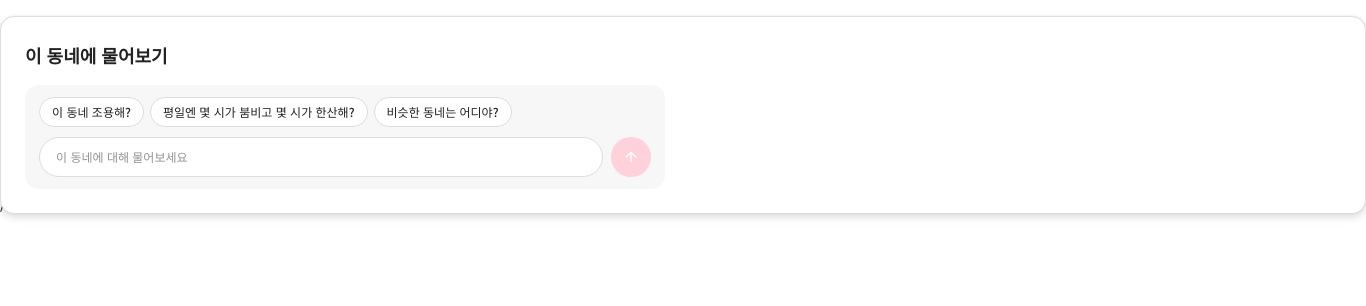
DongAskSection › 제목·브리핑 없음·동 예시, 질문은 surface dong + 페이지 달로 간다
Check: the heading "이 동네에 물어보기" is shown, box [25, 42, 168, 68]
Click the button "이 동네 조용해?". click: (91, 112)
box: [39, 97, 144, 127]
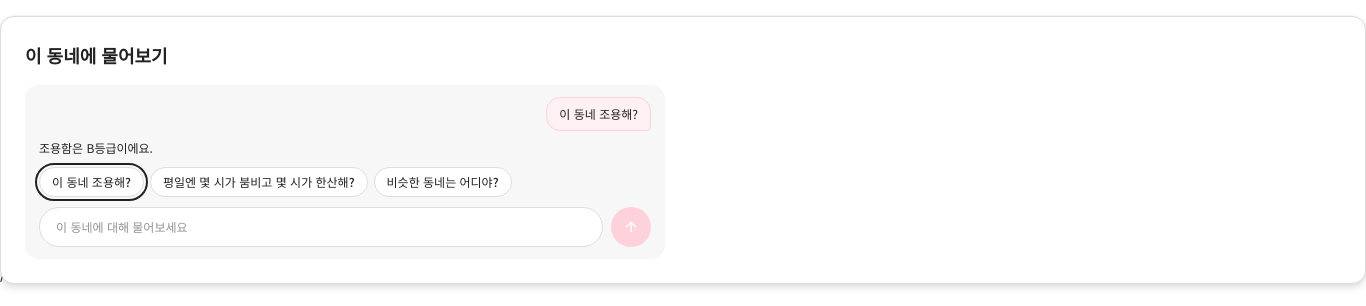
Check: the text "조용함은 B등급이에요." is shown, box [39, 139, 153, 156]
